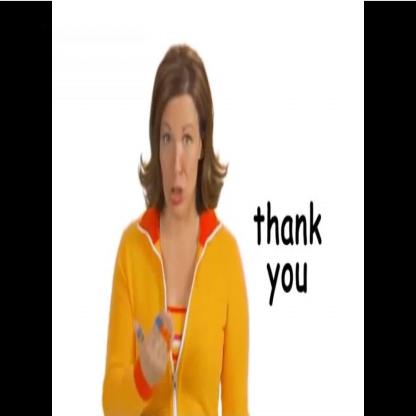ThankYou: (123, 38, 210, 408)
